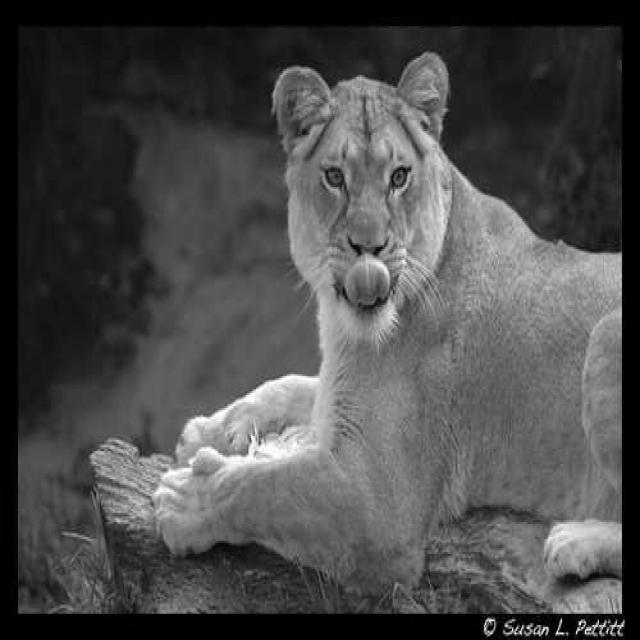Lion: (224, 51, 536, 515)
